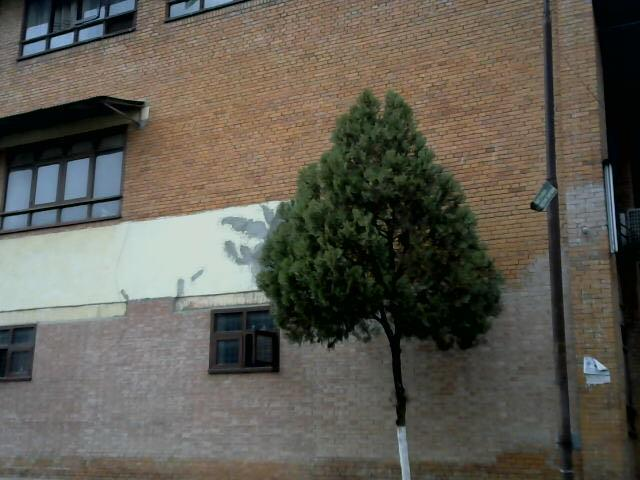Building: (0, 0, 367, 480)
Electrical Pole: (528, 0, 580, 480)
Tree: (263, 85, 514, 480)
